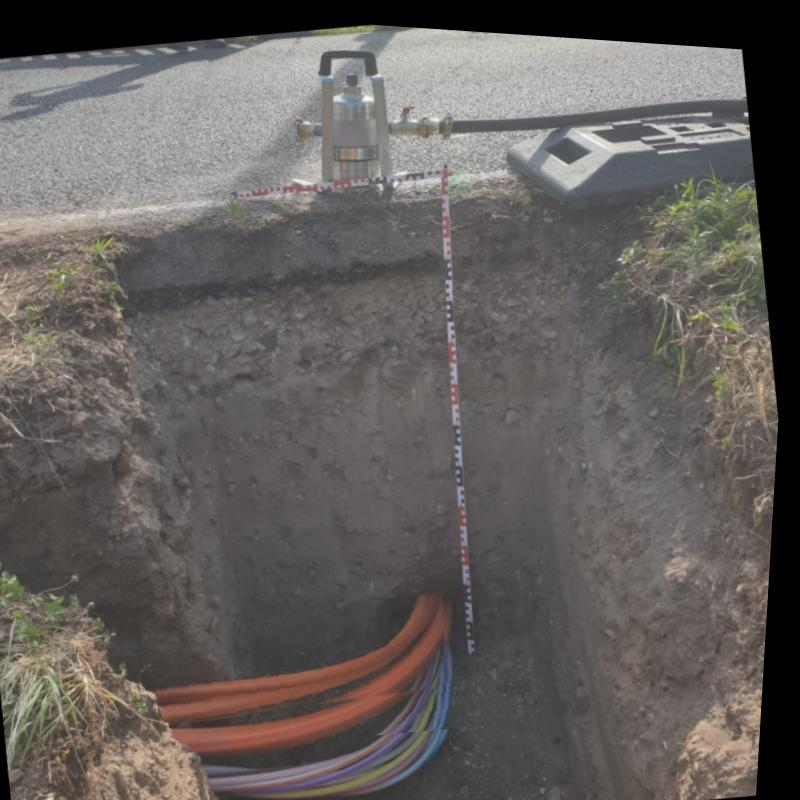Orang-Speednetrohrchen: (178, 610, 465, 745), (165, 586, 447, 720)
